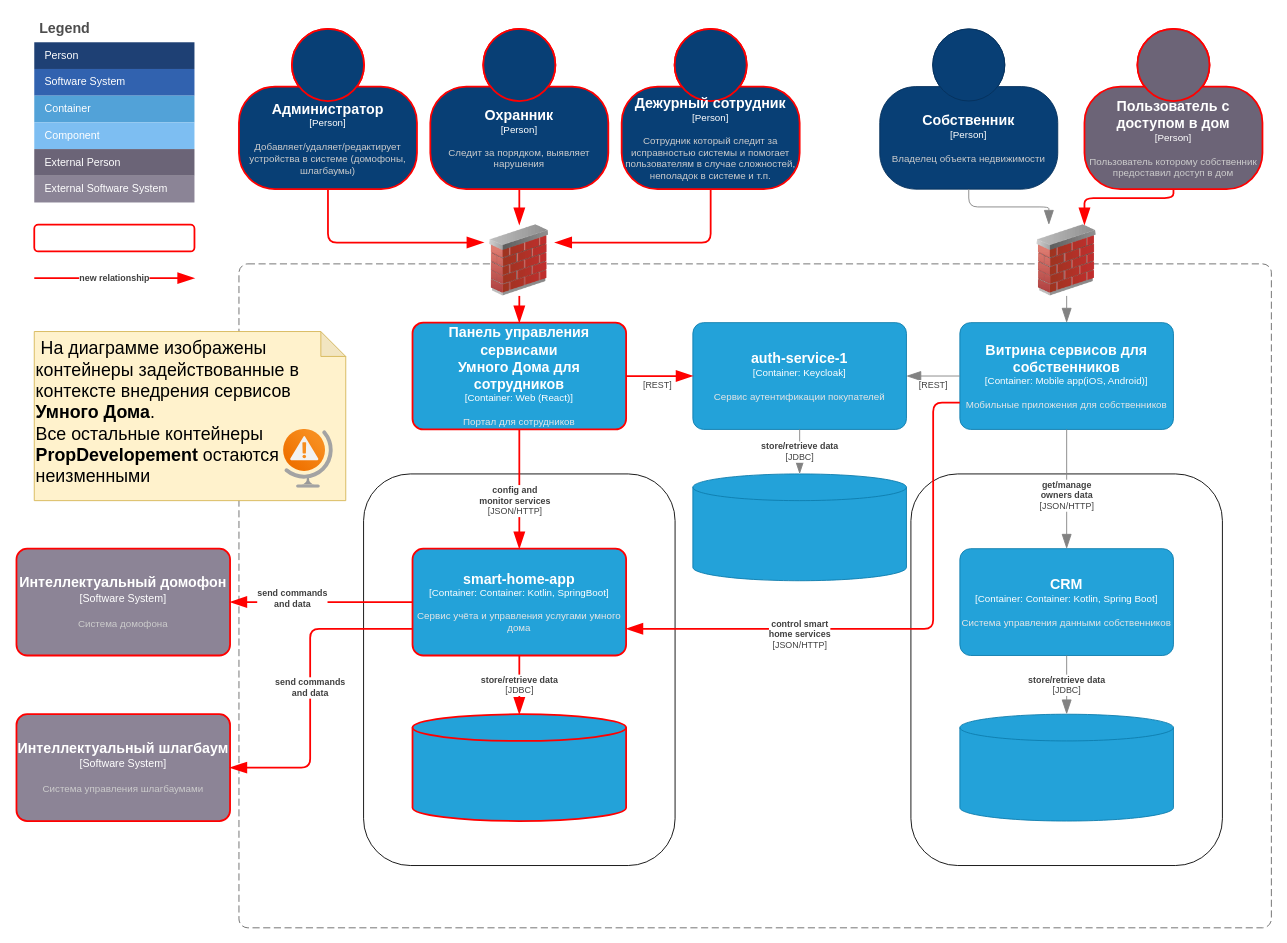
This 1287x943 diagram has some shape labels left out. Each missing label, with the box of its shape:
auth-db-1 [Container: PostgreSQL] База данных сервиса аутентификации покупателей: (692, 473, 906, 581)
crm-tenant-db [Container: PostgreSQL] База данных CRM по собственникам: (959, 713, 1173, 821)
New module/role: (33, 223, 195, 252)
PropDevelopment [Software System]: (238, 263, 1271, 928)
smart-home-db [Container: PostgreSQL] База данных услуг Умного дома: (411, 713, 627, 821)
Группа сервисов ЖКУ: (910, 473, 1222, 866)
Группа сервисов Умного Дома: (363, 473, 675, 866)
